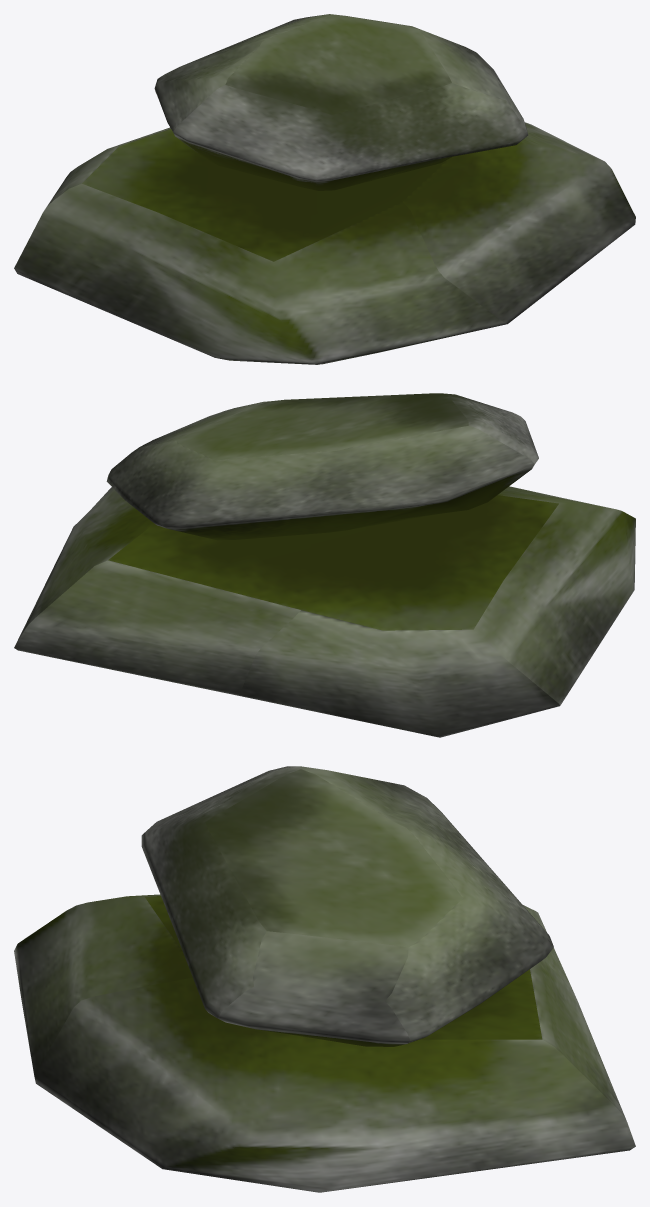
Rendered from rockSet5_unity.fbx.
3 views of the same model, one above another, from view 1: azimuth 30°, elevation 25°; view 2: azimuth 150°, elevation 25°; view 3: azimuth 270°, elevation 25° (orthographic). The views are drawn at different scales.
Visible parts, largest first — view 1: rock 024; view 2: rock 024; view 3: rock 024.
Part boxes in pixels (x1,y1,x2,y2): rock 024: (14, 14, 635, 364); rock 024: (14, 393, 635, 737); rock 024: (14, 766, 635, 1192).
Size of the model in its own units: 39.37 by 35.42 by 15.22.
